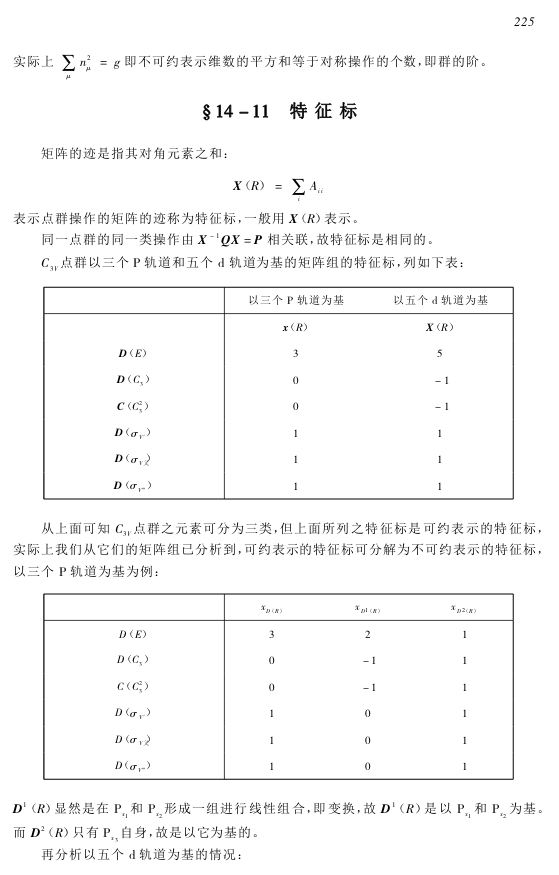table: (43, 286, 513, 500), (43, 593, 513, 780)
